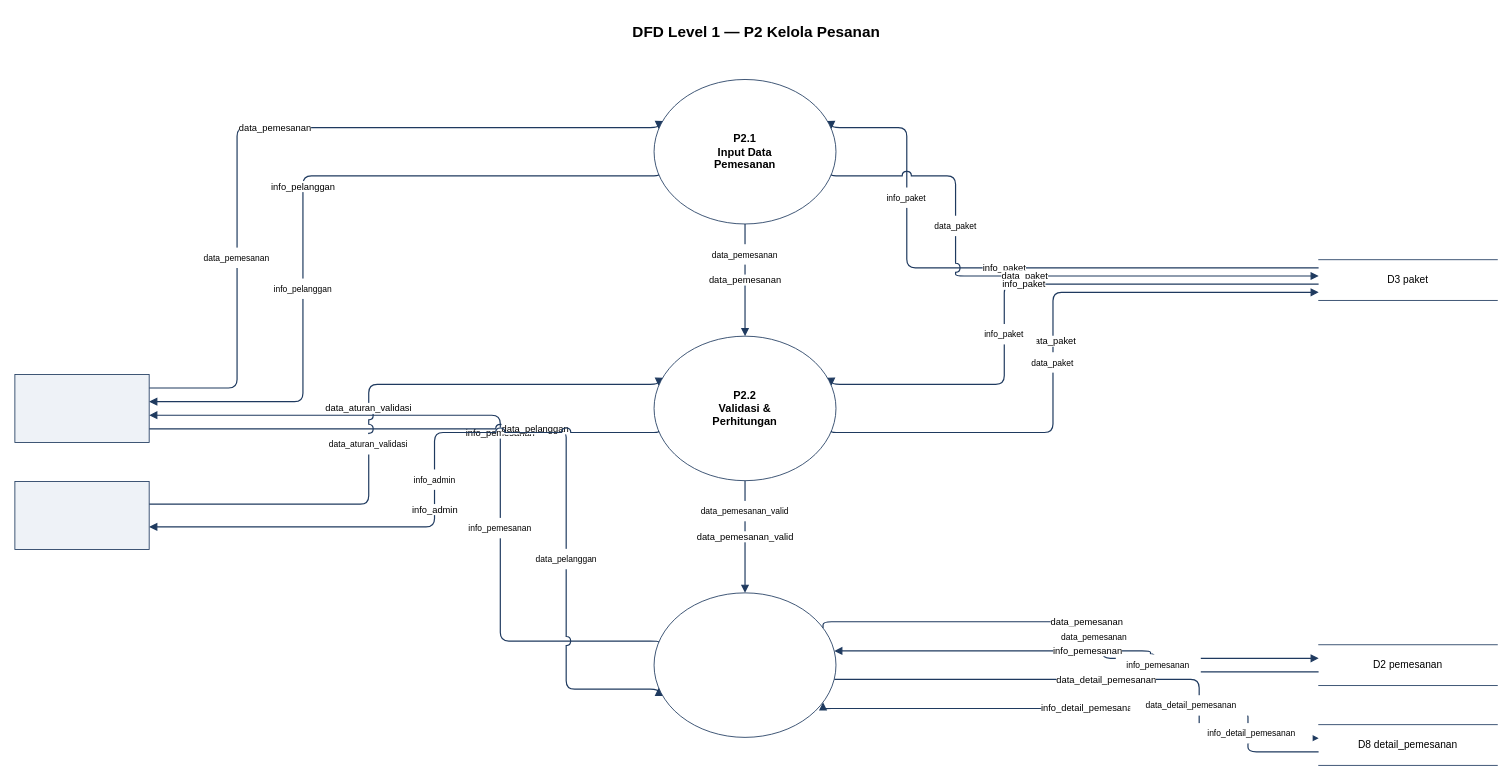
Image size: 1512x780. Some labels were removed from this diagram. The centre of each missing label's shape, as x and y in pixels:
"Admin" belongs at (x=81, y=515).
"P2.3 Simpan Pemesanan & Detail" belongs at (x=744, y=664).
"Pelanggan" belongs at (x=81, y=408).
